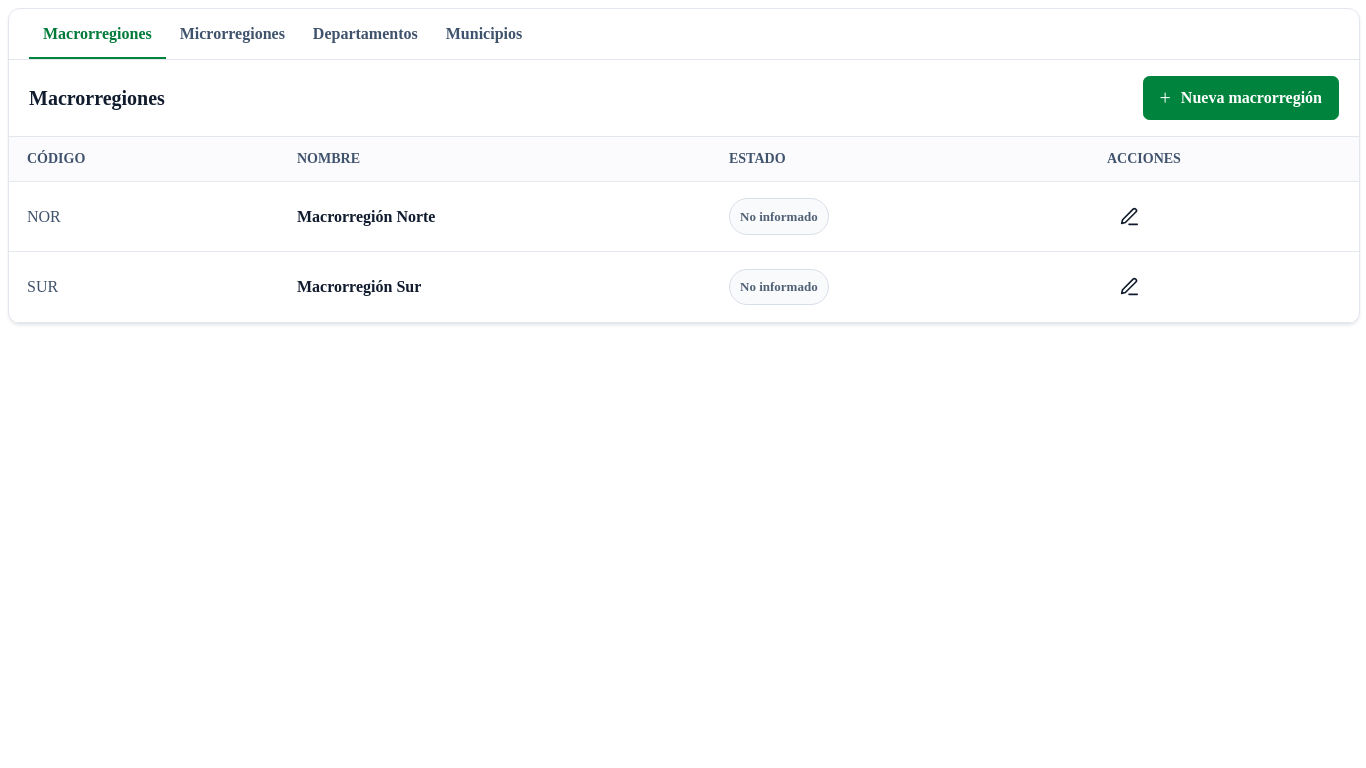
Test case: GeographyHierarchy › conserva el formulario y sus datos cuando falla la operación de guardado
Click the button "+ Nueva macrorregión": (1241,98) [1143, 76, 1339, 120]
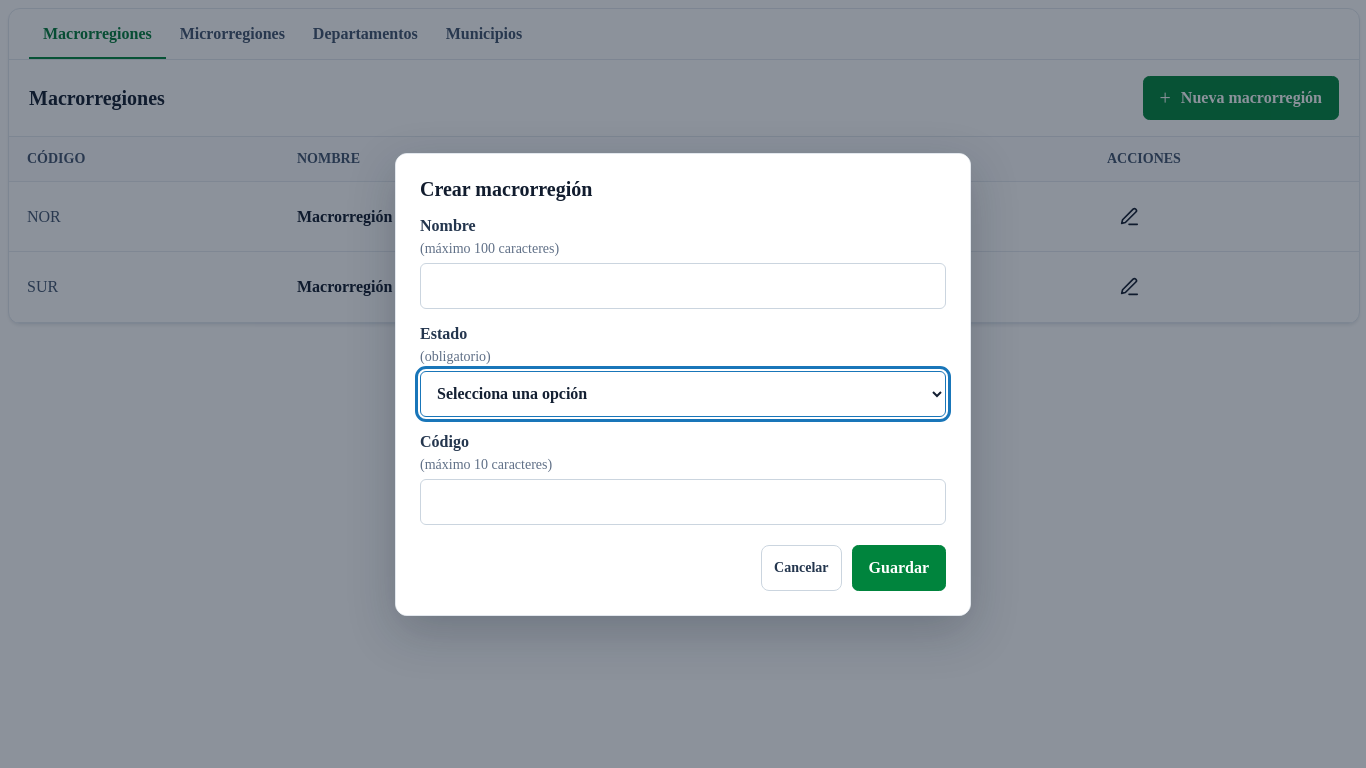
In the field labelled "Nombre (máximo 100 caracteres)": (683,286) [420, 262, 946, 308], type "Nombre conservado"
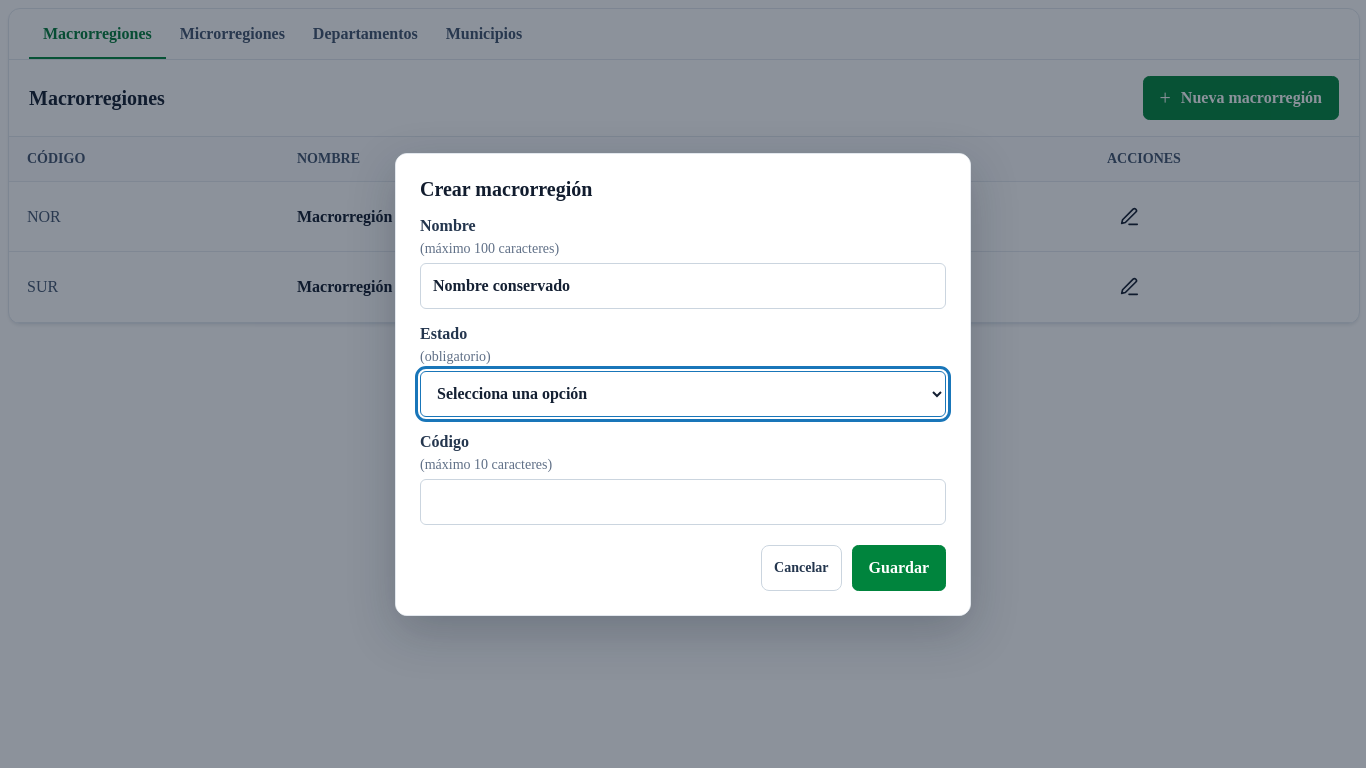
In the field labelled "Código (máximo 10 caracteres)": (683,502) [420, 478, 946, 524], type "NCO"
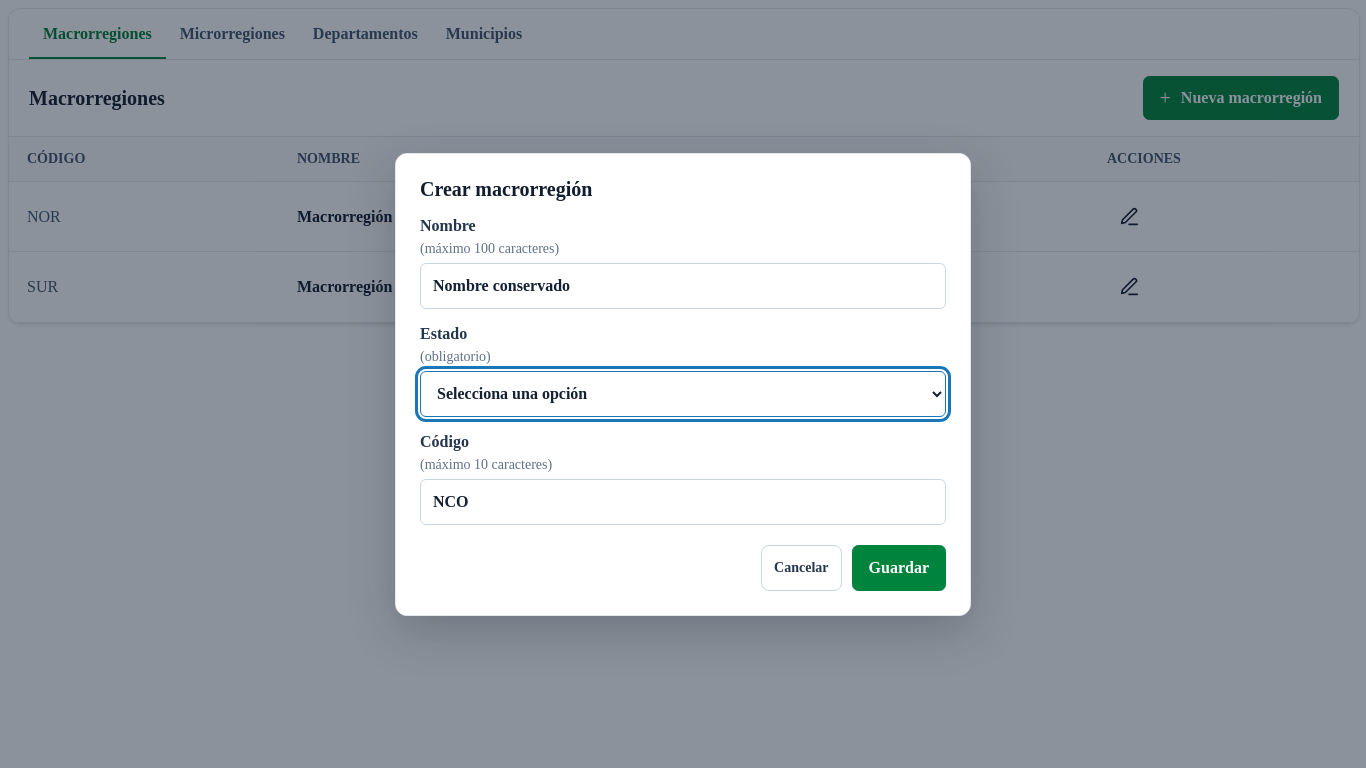
Select "Active" in the dropdown labelled "Estado (obligatorio)": (683,394) [420, 370, 946, 416]
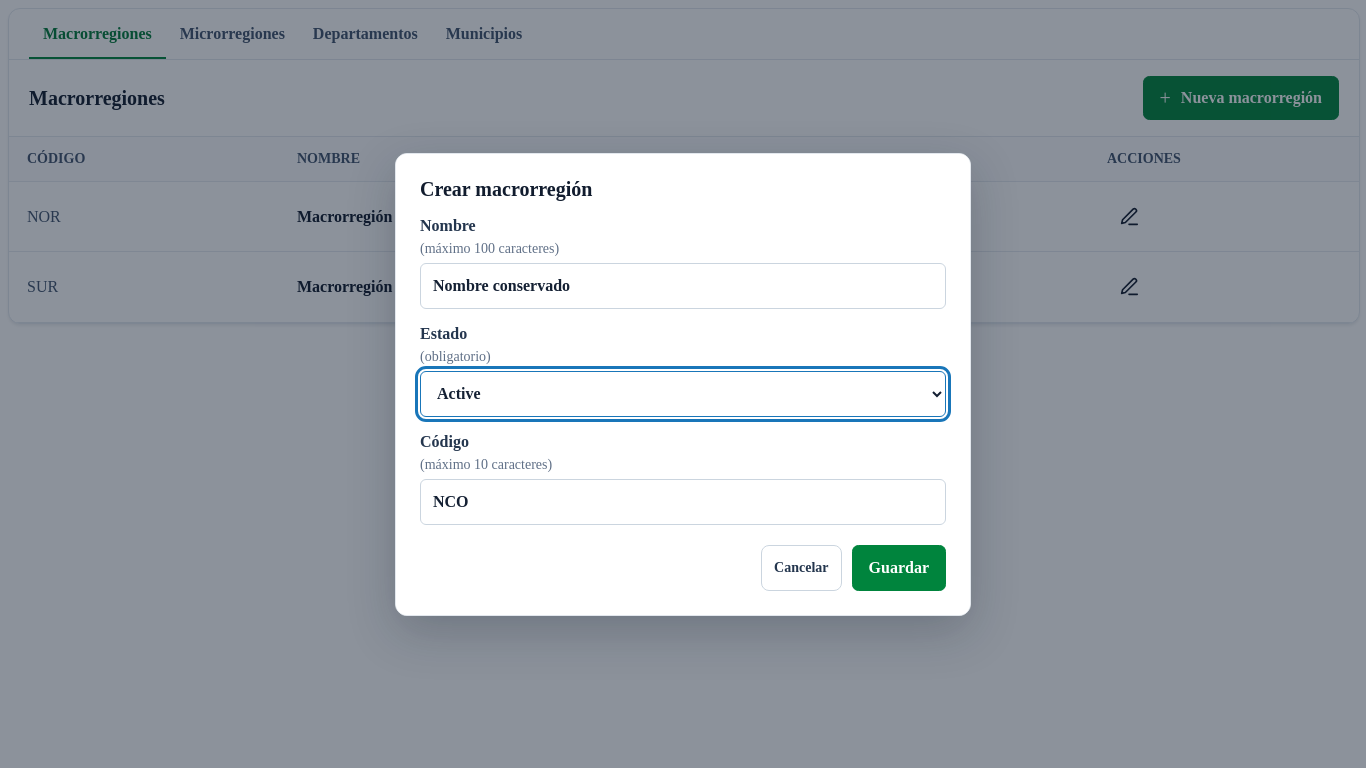
Submit the form named "Crear Macrorregiones", box [396, 154, 970, 614]
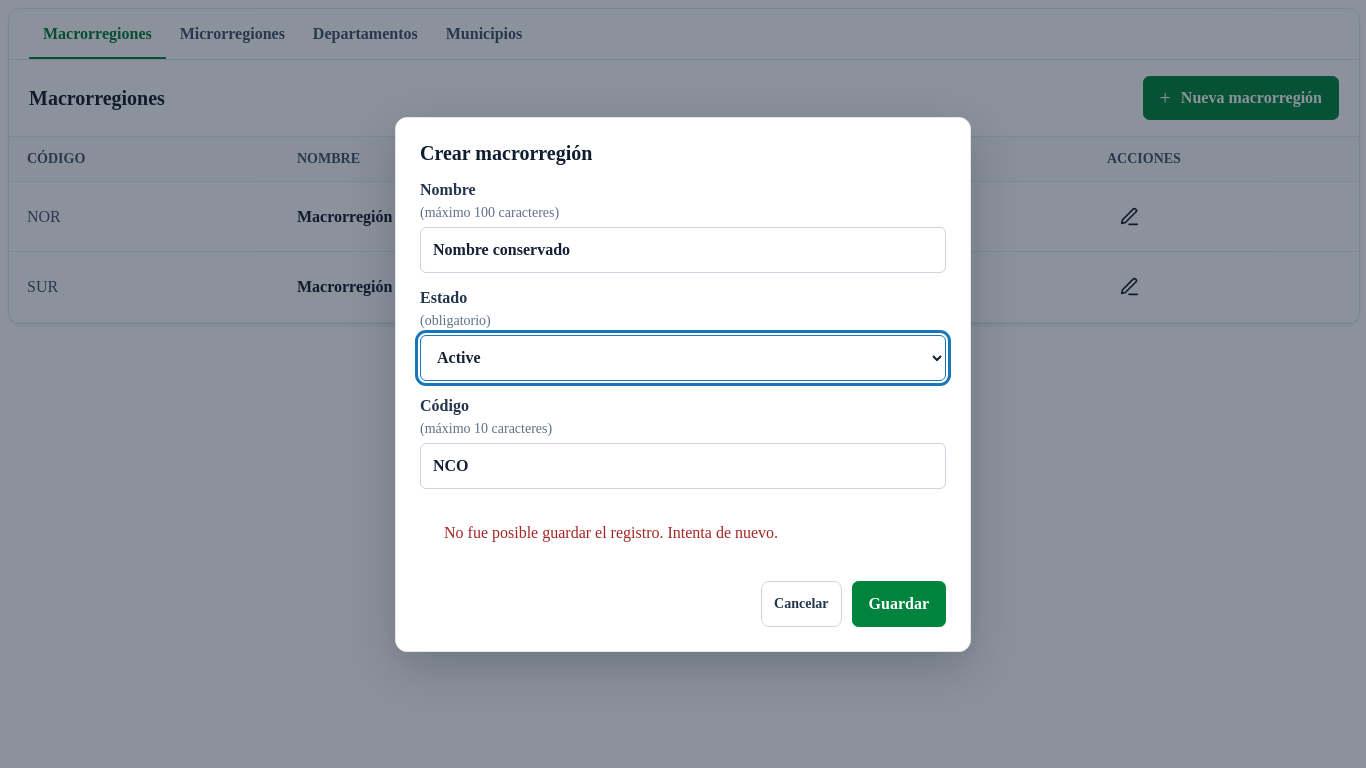
Expected: the button "Guardar" is shown, [852, 580, 946, 626]
Expected: the message shows "No fue posible guardar", [444, 524, 778, 540]
